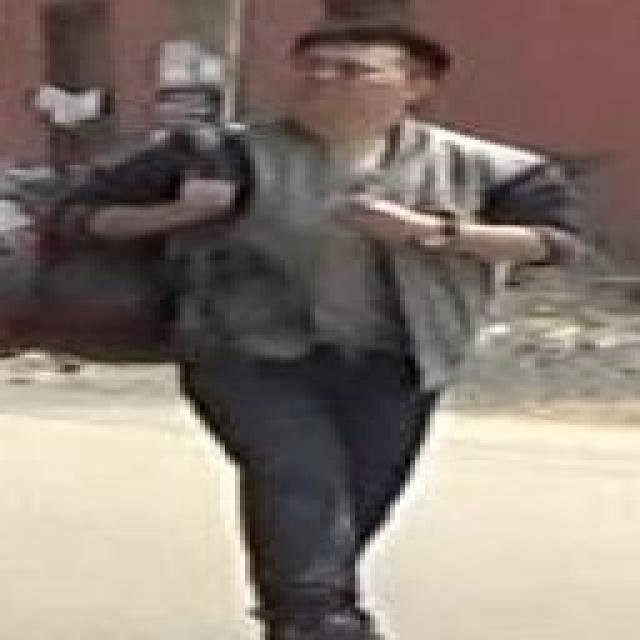adult: (87, 19, 594, 640)
